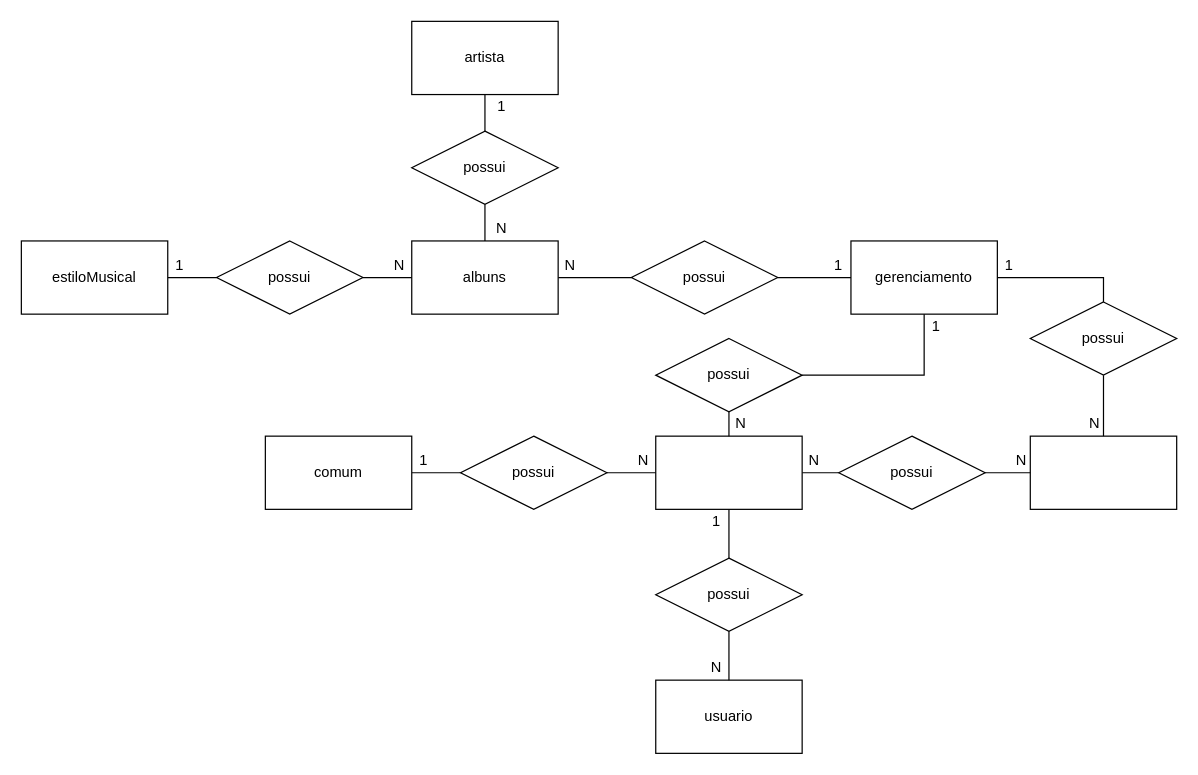
Image size: 1198x775. Some labels were removed from this diagram. Each missing label, with the centre of its shape:
administrador: [1103,472]
login: [728,472]
